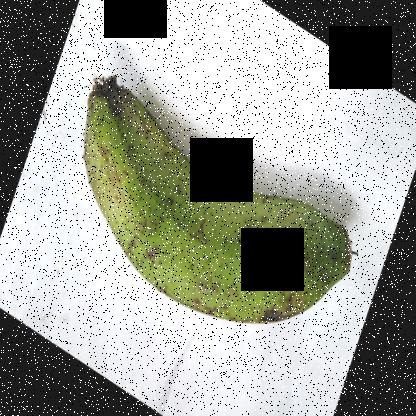unripe: (71, 65, 368, 355)
